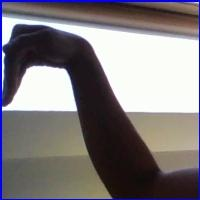A: (0, 21, 94, 110)
